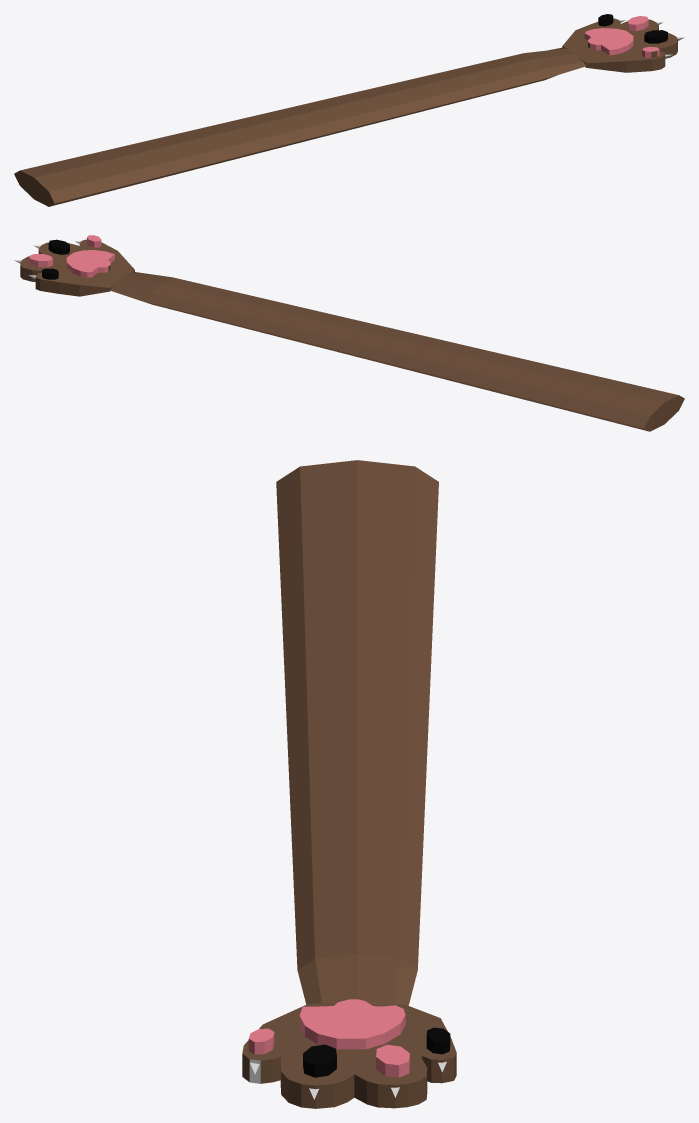
The model's file is lapka5.fbx.
The picture shows the model from 3 angles, top to bottom: view 1: azimuth 30°, elevation 25°; view 2: azimuth 150°, elevation 25°; view 3: azimuth 270°, elevation 25°; orthographic projection. The views are drawn at different scales.
Visible parts, largest first — view 1: Circle.023; view 2: Circle.023; view 3: Circle.023.
Part boxes in pixels (box(x1,y1,x2,y2)): Circle.023: box(14, 14, 684, 206); Circle.023: box(14, 235, 684, 431); Circle.023: box(242, 460, 456, 1108).
Bounding box in the file's own units: 159 × 5.53 × 23.03.
